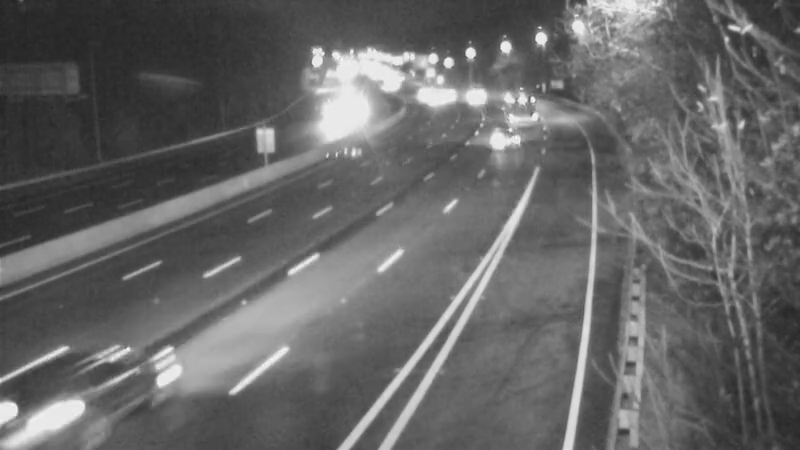vehicle: (1, 350, 107, 450), (363, 57, 413, 107), (428, 69, 478, 119), (454, 71, 504, 121), (494, 83, 544, 133), (479, 112, 529, 162), (307, 92, 357, 142)
